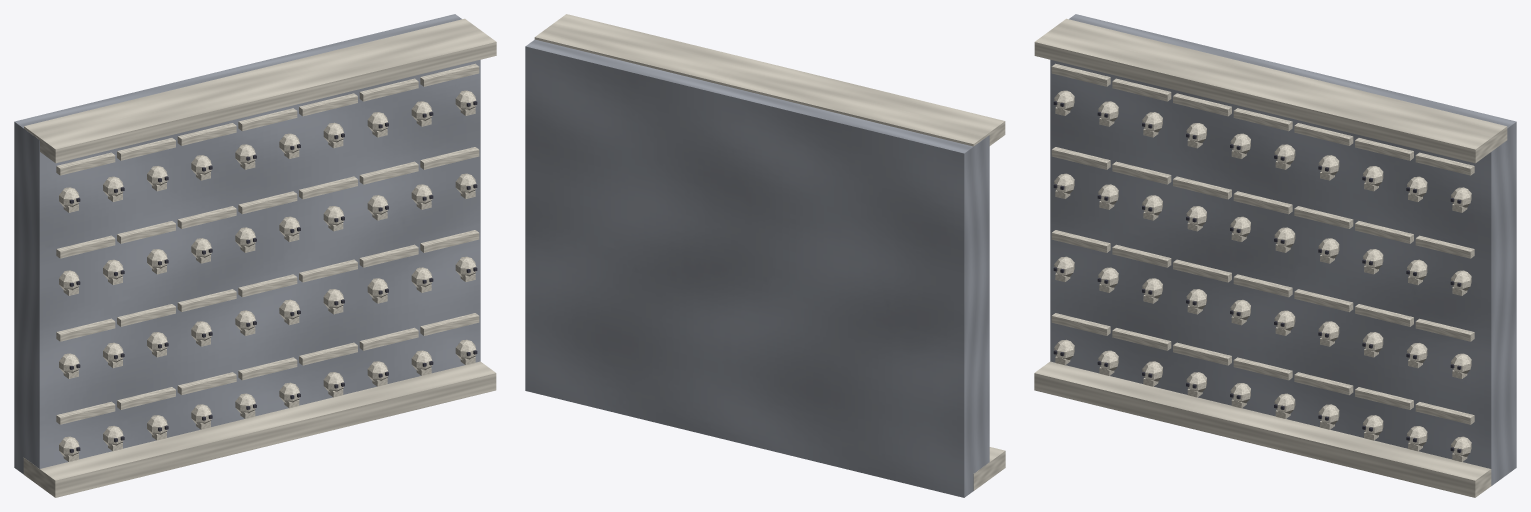
3 renders of one model, left to right at view 1: azimuth 30°, elevation 25°; view 2: azimuth 150°, elevation 25°; view 3: azimuth 330°, elevation 25°, orthographic.
Visible parts, largest first — view 1: ossuary-wall; view 2: ossuary-wall; view 3: ossuary-wall.
Boxes of the visible parts, x1,y1,x2,y2 form: ossuary-wall: (14,14,496,497); ossuary-wall: (525,14,1005,497); ossuary-wall: (1034,14,1516,497).
Bounding box in the file's own units: 4 × 3.02 × 0.6499.
Materials: 3 (2 with a texture image).
